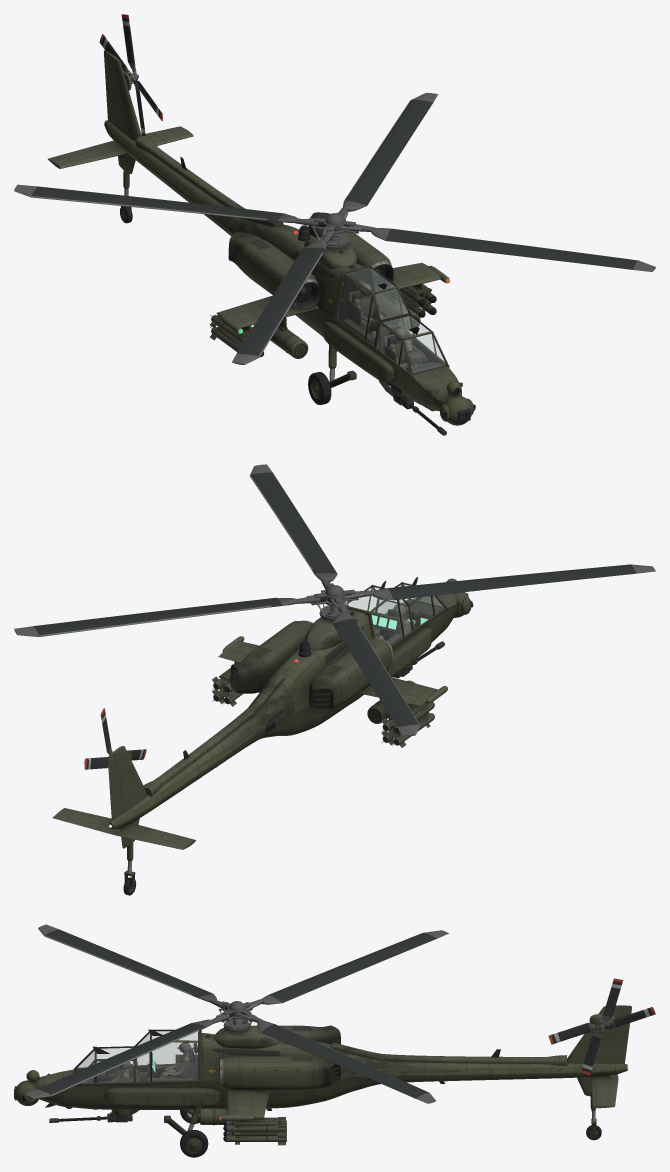
The model's file is heli.glb.
3 views of the same model, one above another, from view 1: azimuth 30°, elevation 25°; view 2: azimuth 150°, elevation 25°; view 3: azimuth 270°, elevation 25° (orthographic). The views are drawn at different scales.
Parts seen in each view (by area): view 1: rumpf, rotor_kopf, technik, scheiben, heck_blaetter, metallteile, pilot_hinten; view 2: rumpf, rotor_kopf, technik, scheiben, heck_blaetter; view 3: rumpf, rotor_kopf, technik, scheiben, heck_blaetter, metallteile, pilot_hinten.
Part boxes in pixels (x1,y1,x2,y2): rumpf: [48, 50, 473, 425]; rotor_kopf: [14, 92, 655, 364]; technik: [120, 157, 475, 422]; scheiben: [337, 268, 445, 372]; heck_blaetter: [99, 14, 162, 136]; metallteile: [124, 188, 475, 435]; pilot_hinten: [353, 283, 407, 347]; rumpf: [52, 578, 471, 849]; rotor_kopf: [14, 464, 655, 735]; technik: [123, 577, 473, 895]; scheiben: [347, 584, 444, 644]; heck_blaetter: [84, 708, 146, 769]; rumpf: [16, 1005, 631, 1124]; rotor_kopf: [25, 924, 448, 1103]; technik: [14, 1020, 601, 1157]; scheiben: [76, 1031, 198, 1082]; heck_blaetter: [548, 978, 655, 1075]; metallteile: [14, 1019, 595, 1131]; pilot_hinten: [119, 1042, 191, 1078].
Size of the model in its own units: 10.87 by 4.72 by 16.44.
Materials: 10 (2 with a texture image).
